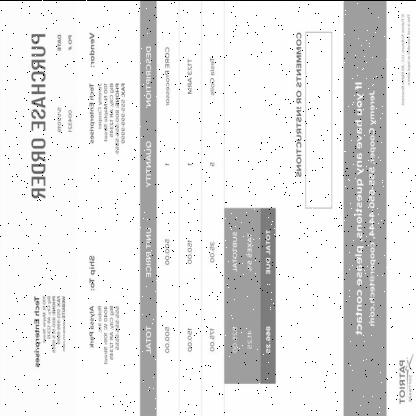Paragraph: (352, 75, 380, 339), (227, 221, 275, 358), (87, 28, 127, 156), (87, 253, 121, 366), (30, 31, 48, 200), (32, 292, 68, 368), (294, 26, 304, 180), (399, 7, 413, 108), (66, 32, 74, 134), (56, 30, 62, 132), (398, 358, 406, 404), (408, 373, 412, 402)
Table: (142, 35, 220, 362)
